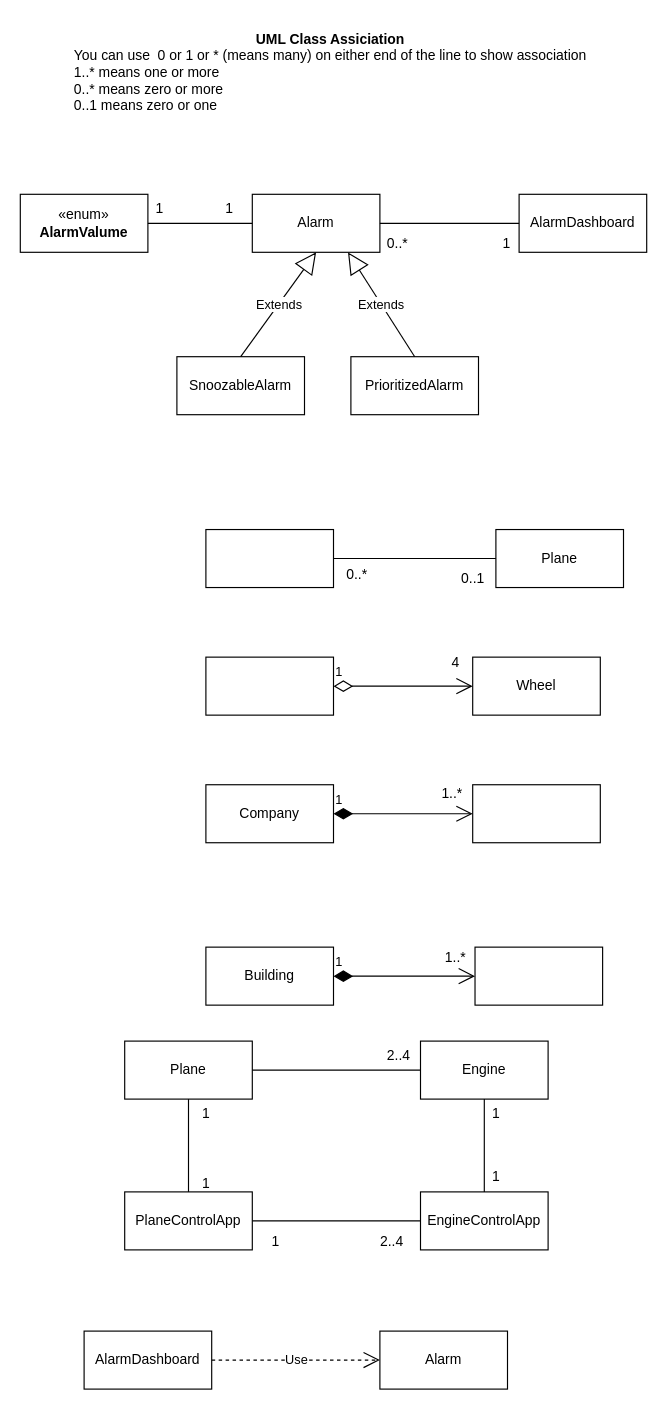
The diagram is 667 pixels wide and 1409 high, and some of its shapes have lost their labels. The centre of each missing label's shape, as x and y in pixels:
Car: (269,685)
Department: (536,813)
Flight: (269,558)
Floor: (538,975)
